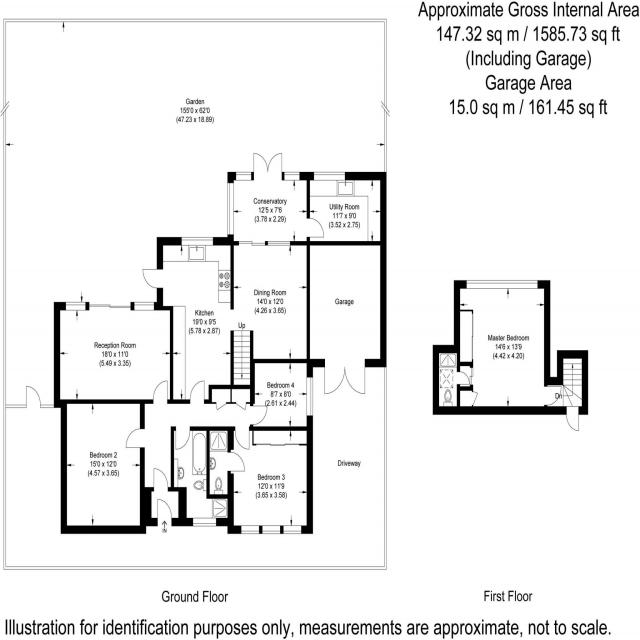DOOR: (156, 497, 174, 527), (124, 427, 146, 450), (141, 268, 164, 290), (152, 379, 169, 405), (234, 425, 251, 451), (226, 451, 246, 473), (565, 404, 580, 433), (153, 467, 170, 492), (175, 426, 192, 451), (249, 405, 269, 426), (306, 217, 325, 239), (543, 385, 562, 407), (189, 379, 205, 405), (456, 370, 471, 386)
DOUBLE DOOR: (251, 149, 285, 180)
ROOM: (141, 237, 311, 404), (454, 280, 562, 415), (53, 301, 173, 409), (60, 399, 147, 534), (227, 426, 313, 534), (227, 152, 325, 246), (306, 171, 387, 246), (249, 358, 313, 431)
SLIDING DOOR: (87, 301, 131, 311), (237, 239, 267, 247)
WINDOW: (466, 279, 539, 290), (227, 182, 234, 235), (181, 236, 214, 247), (313, 171, 345, 181), (306, 376, 313, 416), (192, 517, 217, 527), (65, 301, 87, 312), (133, 301, 155, 311), (241, 525, 260, 534), (262, 525, 281, 534), (283, 525, 302, 534), (284, 171, 300, 181), (236, 172, 252, 181), (267, 241, 291, 246)
